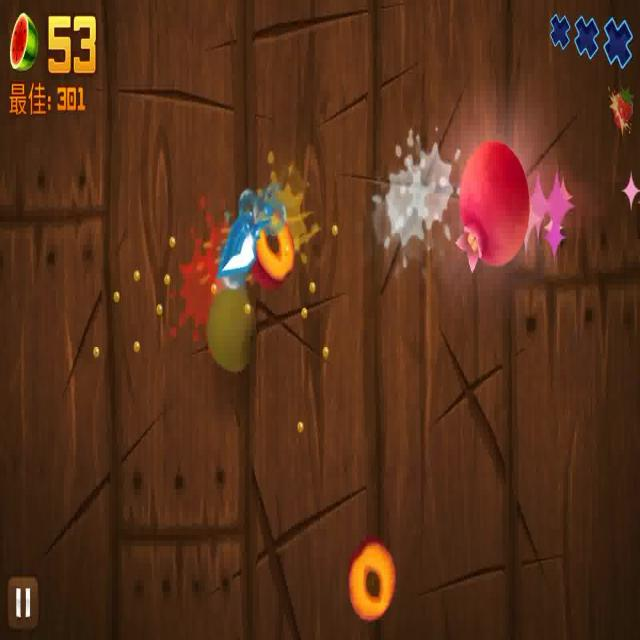fruit: (462, 140, 526, 261), (345, 537, 399, 624), (204, 288, 253, 373), (249, 211, 296, 288)
